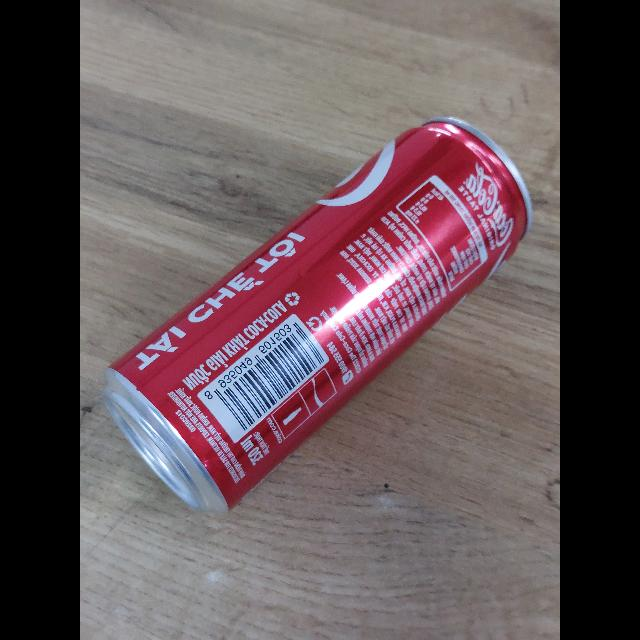coca_cola: (102, 118, 533, 515)
